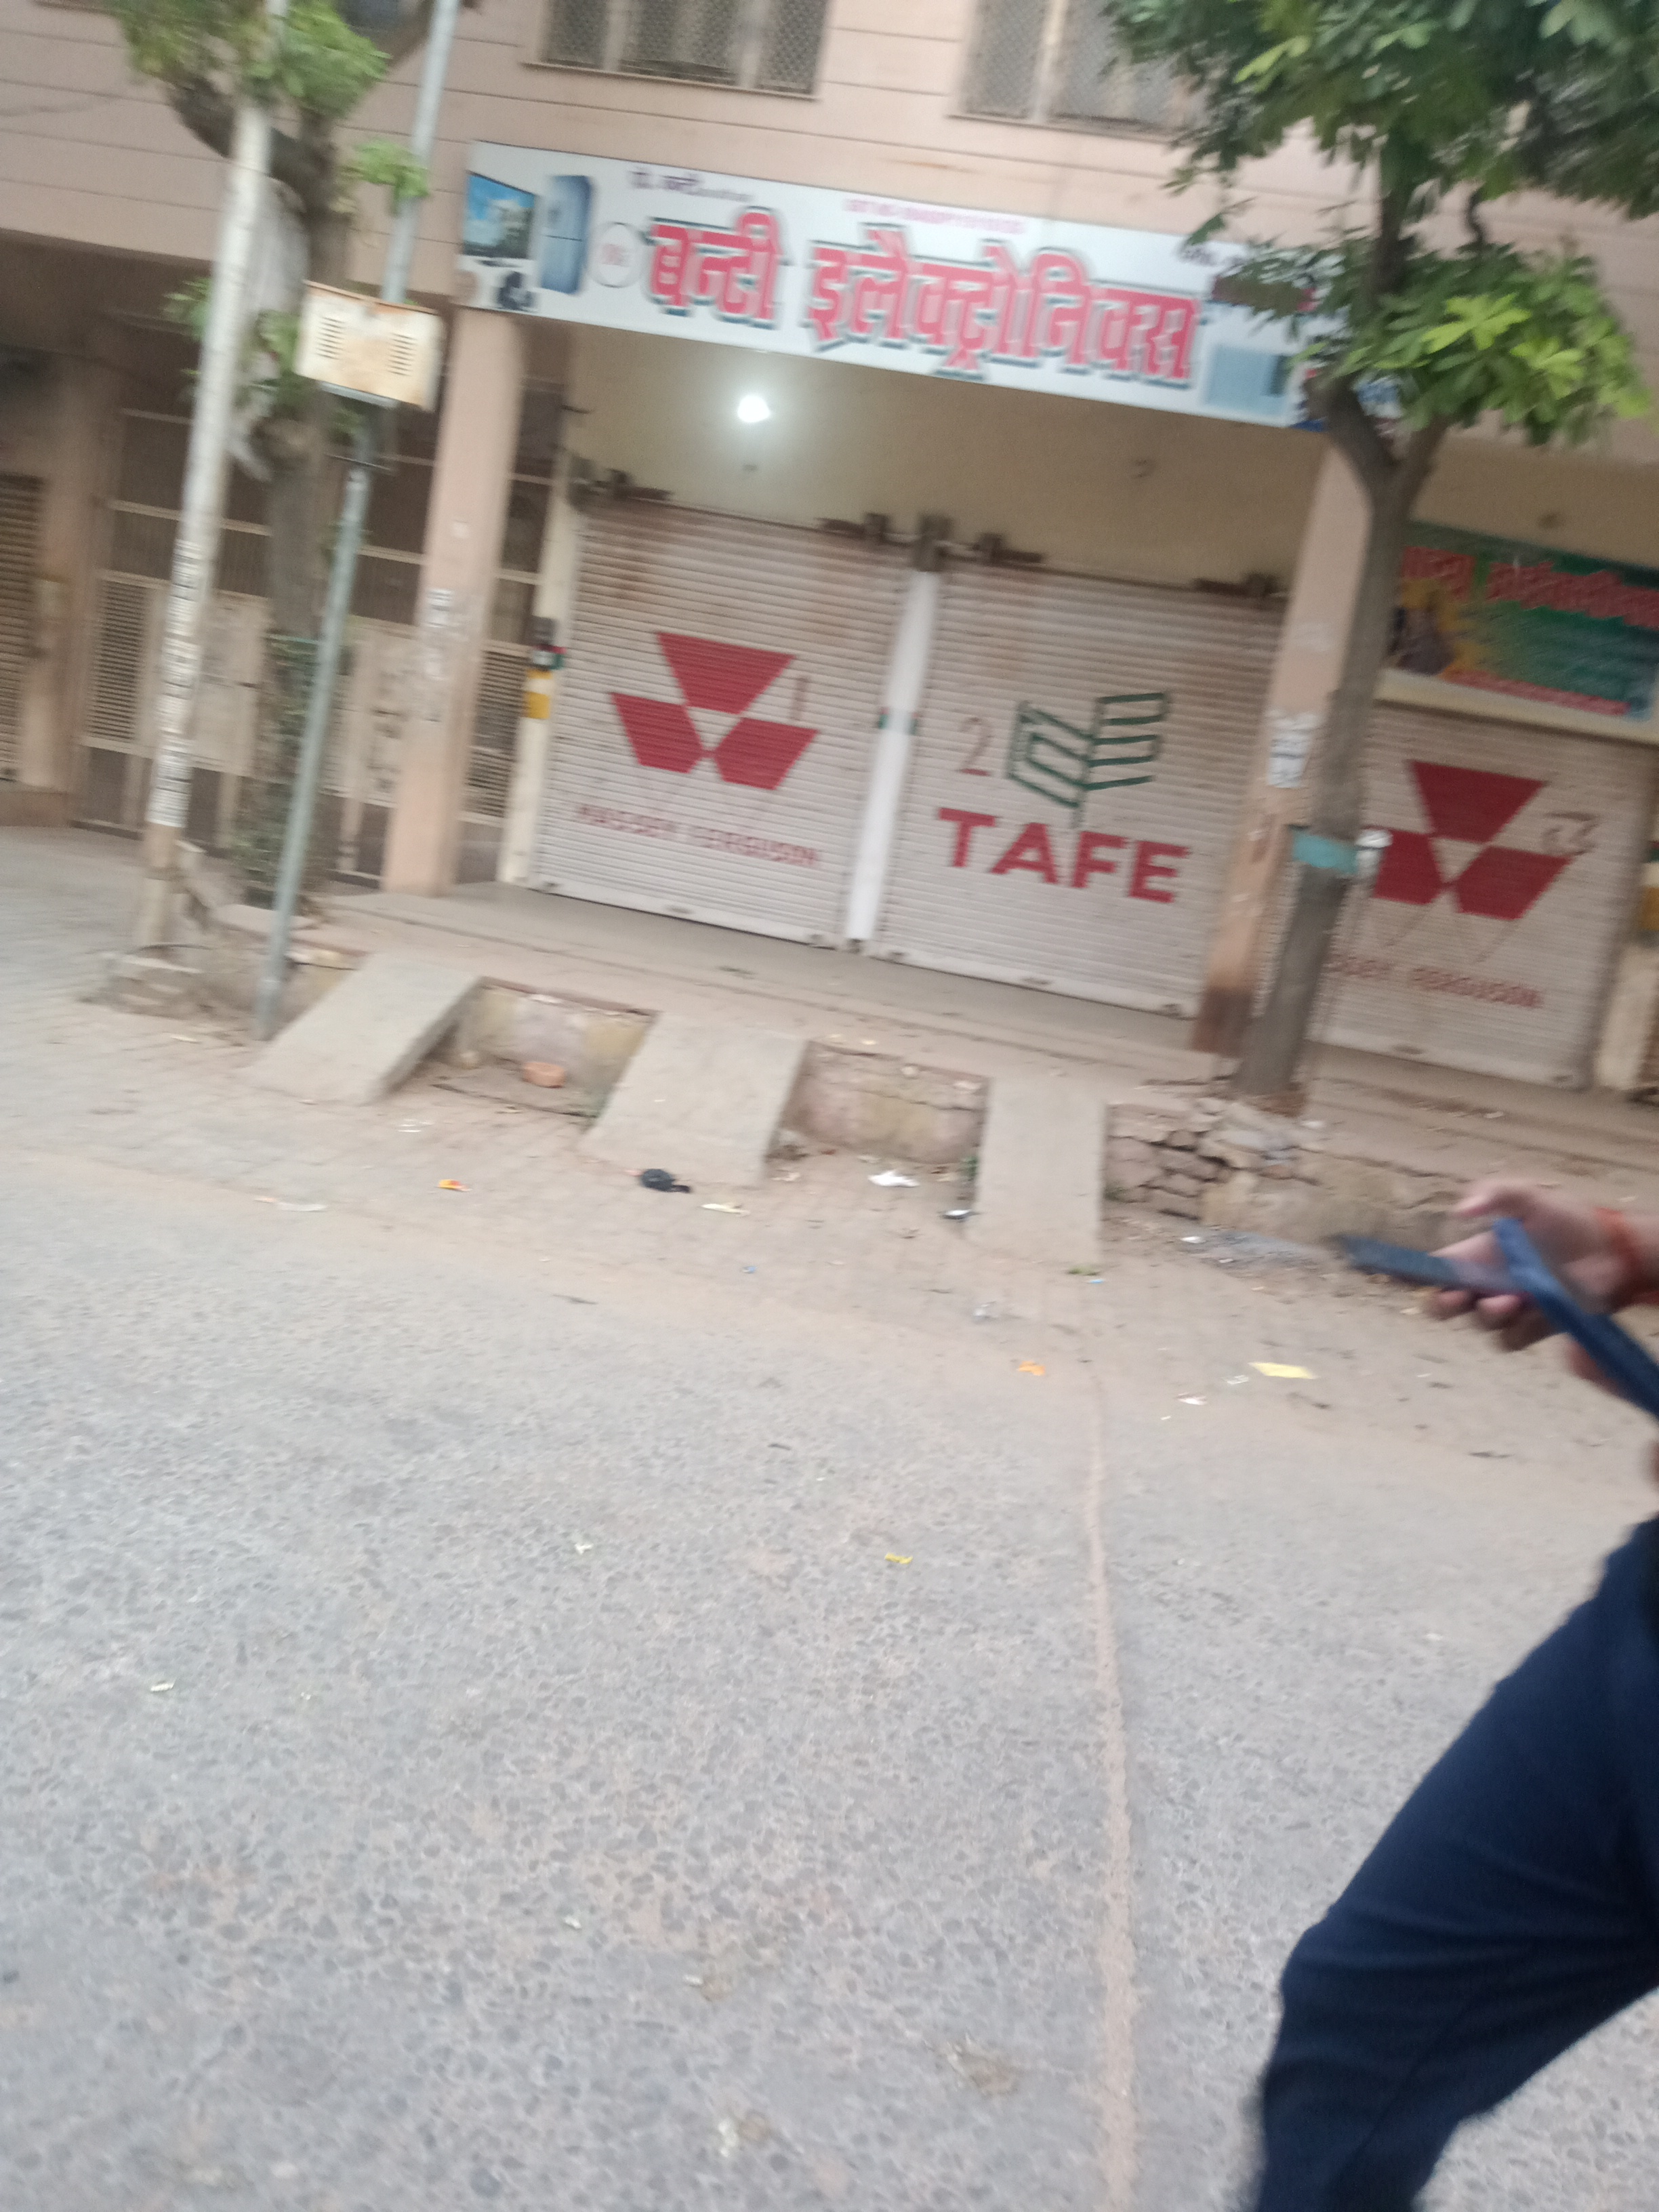text: (430, 152, 1364, 388), (903, 557, 1267, 1045)
